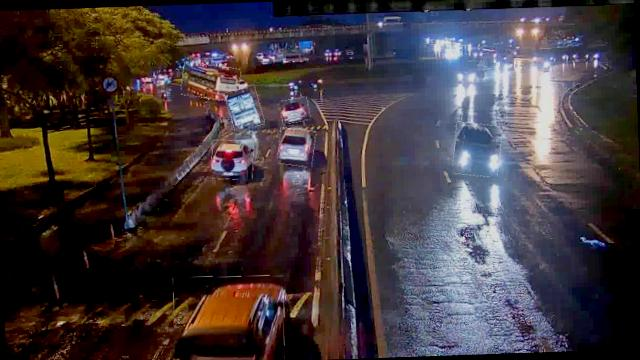Bus: (180, 62, 240, 102)
Car: (172, 274, 285, 360), (452, 122, 502, 178), (211, 140, 254, 180), (278, 127, 316, 166), (280, 98, 310, 124)
Truck: (226, 86, 262, 130)
